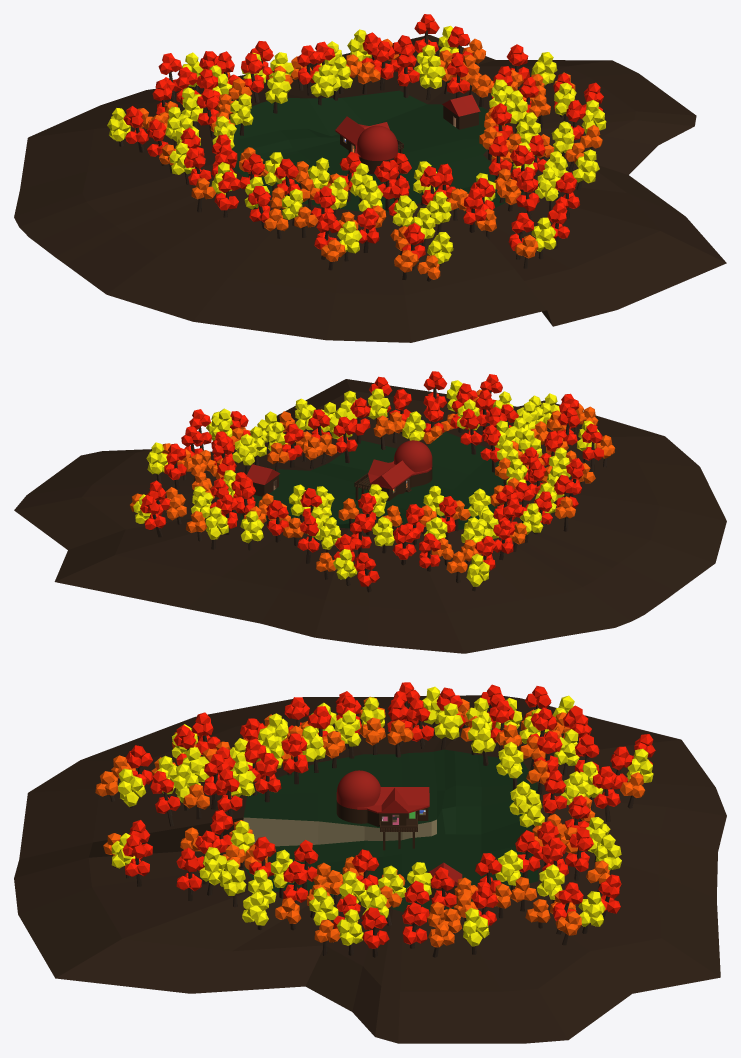
File: world_proto_near_end.glb
3 views of the same model, one above another, from view 1: azimuth 30°, elevation 25°; view 2: azimuth 150°, elevation 25°; view 3: azimuth 270°, elevation 25° (orthographic). The views are drawn at different scales.
Parts seen in each view (by area): view 1: World; view 2: World; view 3: World.
Boxes of the visible parts, x1,y1,x2,y2 form: World: (14,14,726,342); World: (14,371,726,653); World: (14,682,726,1043).
Size of the model in its own units: 413 by 67.5 by 367.
Materials: 2 (2 with a texture image).
